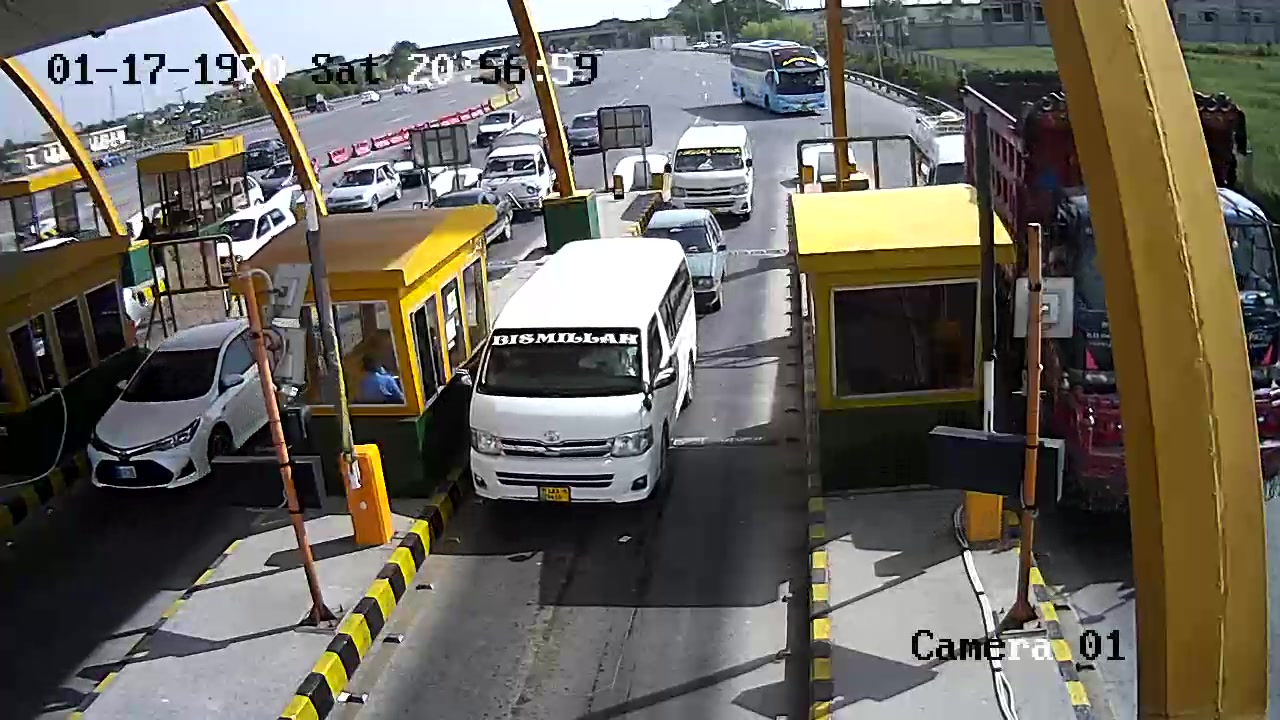F3: (469, 231, 703, 527)
